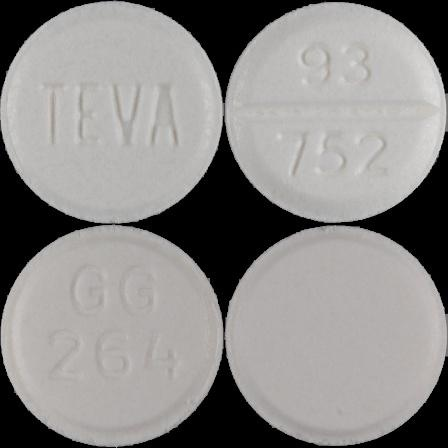67544-326: (0, 0, 224, 224)
